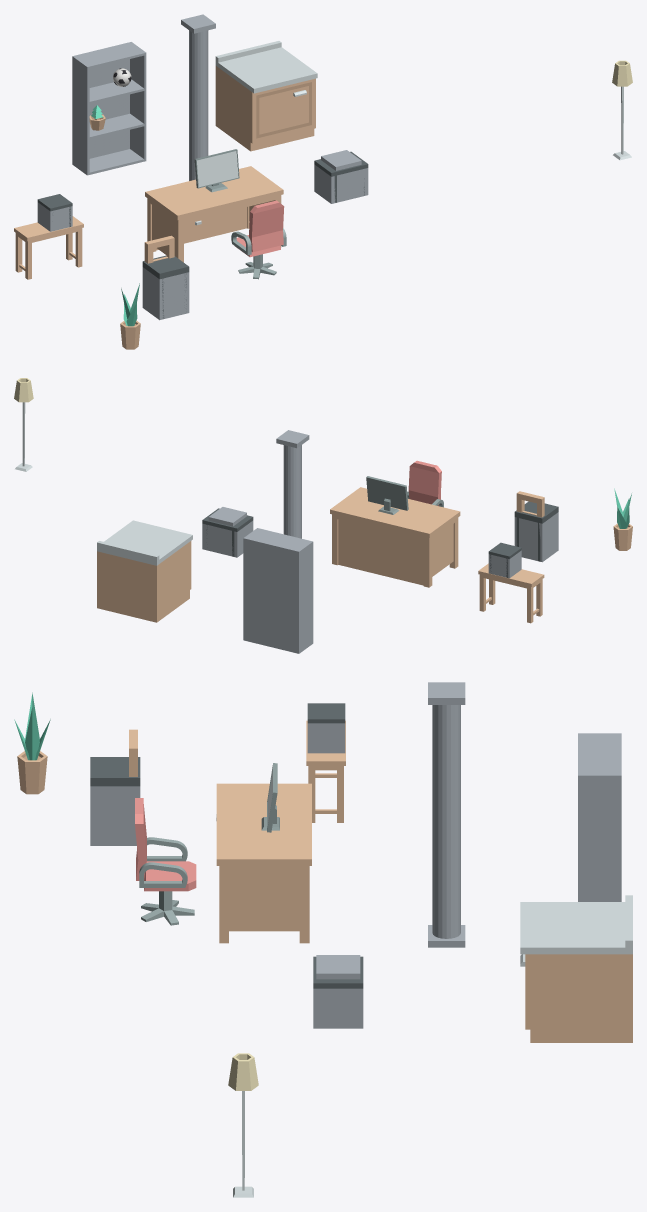
3 renders of one model, top to bottom at view 1: azimuth 30°, elevation 25°; view 2: azimuth 150°, elevation 25°; view 3: azimuth 270°, elevation 25°, orthographic. The views are drawn at different scales.
Parts seen in each view (by area): view 1: cabinet_blue__kitchenCabinet(Clone), desk_blue__desk(Clone), column_cyan__column_cyan shaft, cabinet_blue__door, shelf_orange__shelf_orange back, deskchair_black__chair, shelf_orange__shelf_orange side_l, bin_gray__bin_gray shell, sidetable_brown__sideTable(Clone), crate_red__crate_red shell, shelf_orange__shelf_orange side_r, monitor_gray__computerScreen(Clone) (+10 smaller); view 2: desk_blue__desk(Clone), cabinet_blue__kitchenCabinet(Clone), shelf_orange__shelf_orange back, shelf_orange__shelf_orange side_l, column_cyan__column_cyan shaft, sidetable_brown__sideTable(Clone), bin_gray__bin_gray shell, deskchair_black__chair, monitor_gray__computerScreen(Clone), crate_red__crate_red shell, shelf_orange__shelf_orange board3, lamp_white__lampRoundFloor(Clone) (+6 smaller); view 3: cabinet_blue__kitchenCabinet(Clone), desk_blue__desk(Clone), column_cyan__column_cyan shaft, shelf_orange__shelf_orange side_r, deskchair_black__chair, bin_gray__bin_gray shell, crate_red__crate_red shell, shelf_orange__shelf_orange board3, sidetable_brown__sideTable(Clone), lamp_white__lampRoundFloor(Clone), bin_gray__bin_gray lid, box_yellow__box_yellow shell (+7 smaller).
Part boxes in pixels (bbox=[...]): cabinet_blue__kitchenCabinet(Clone): bbox=[215, 41, 317, 151]; desk_blue__desk(Clone): bbox=[145, 166, 283, 262]; column_cyan__column_cyan shaft: bbox=[189, 30, 208, 180]; cabinet_blue__door: bbox=[256, 82, 311, 138]; shelf_orange__shelf_orange back: bbox=[75, 42, 129, 158]; deskchair_black__chair: bbox=[231, 200, 286, 257]; shelf_orange__shelf_orange side_l: bbox=[72, 55, 89, 175]; bin_gray__bin_gray shell: bbox=[142, 267, 189, 320]; sidetable_brown__sideTable(Clone): bbox=[14, 216, 83, 279]; crate_red__crate_red shell: bbox=[314, 164, 368, 203]; shelf_orange__shelf_orange side_r: bbox=[130, 42, 146, 161]; monitor_gray__computerScreen(Clone): bbox=[194, 149, 239, 192]; desk_blue__desk(Clone): bbox=[330, 487, 460, 587]; cabinet_blue__kitchenCabinet(Clone): bbox=[97, 520, 192, 622]; shelf_orange__shelf_orange back: bbox=[245, 538, 297, 653]; shelf_orange__shelf_orange side_l: bbox=[297, 541, 313, 653]; column_cyan__column_cyan shaft: bbox=[283, 445, 301, 538]; sidetable_brown__sideTable(Clone): bbox=[478, 563, 544, 623]; bin_gray__bin_gray shell: bbox=[514, 512, 558, 562]; deskchair_black__chair: bbox=[407, 460, 443, 507]; monitor_gray__computerScreen(Clone): bbox=[366, 476, 408, 514]; crate_red__crate_red shell: bbox=[202, 520, 253, 557]; shelf_orange__shelf_orange board3: bbox=[246, 528, 310, 550]; lamp_white__lampRoundFloor(Clone): bbox=[14, 378, 33, 471]; cabinet_blue__kitchenCabinet(Clone): bbox=[520, 895, 632, 1042]; desk_blue__desk(Clone): bbox=[216, 783, 311, 943]; column_cyan__column_cyan shaft: bbox=[432, 705, 460, 938]; shelf_orange__shelf_orange side_r: bbox=[578, 774, 621, 901]; deskchair_black__chair: bbox=[135, 798, 196, 891]; bin_gray__bin_gray shell: bbox=[90, 786, 140, 845]; crate_red__crate_red shell: bbox=[313, 988, 363, 1028]; shelf_orange__shelf_orange board3: bbox=[578, 735, 619, 773]; sidetable_brown__sideTable(Clone): bbox=[306, 720, 345, 822]; lamp_white__lampRoundFloor(Clone): bbox=[228, 1053, 258, 1197]; bin_gray__bin_gray lid: bbox=[90, 757, 140, 786]; box_yellow__box_yellow shell: bbox=[307, 723, 345, 753].
Bounding box in the file's own units: 7.86 × 2.2 × 4.95.
